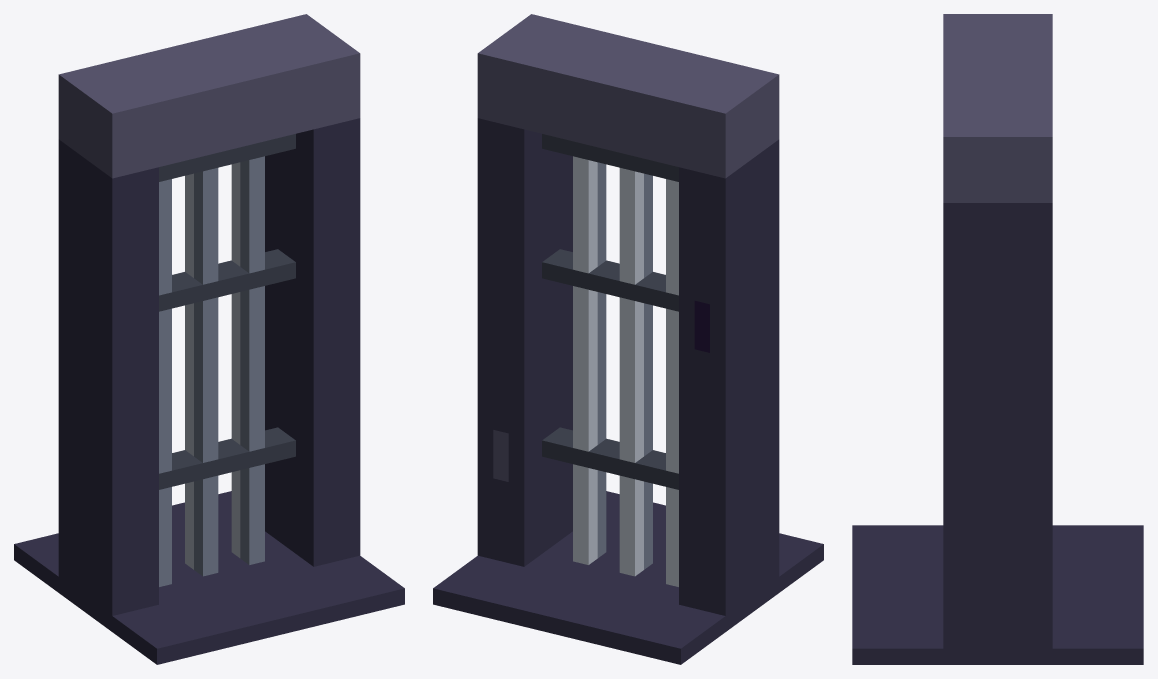
The model's file is portcullis_closed.obj.
3 renders of one model, left to right at view 1: azimuth 30°, elevation 25°; view 2: azimuth 150°, elevation 25°; view 3: azimuth 270°, elevation 25°, orthographic.
Visible parts, largest first — view 1: portcullis_closed; view 2: portcullis_closed; view 3: portcullis_closed.
Boxes of the visible parts, box(x1,y1,x2,y2) form: portcullis_closed: box(14, 14, 404, 664); portcullis_closed: box(433, 14, 823, 664); portcullis_closed: box(852, 14, 1143, 664).
Size of the model in its own units: 1 by 2 by 1.
1 material, 1 textured.
